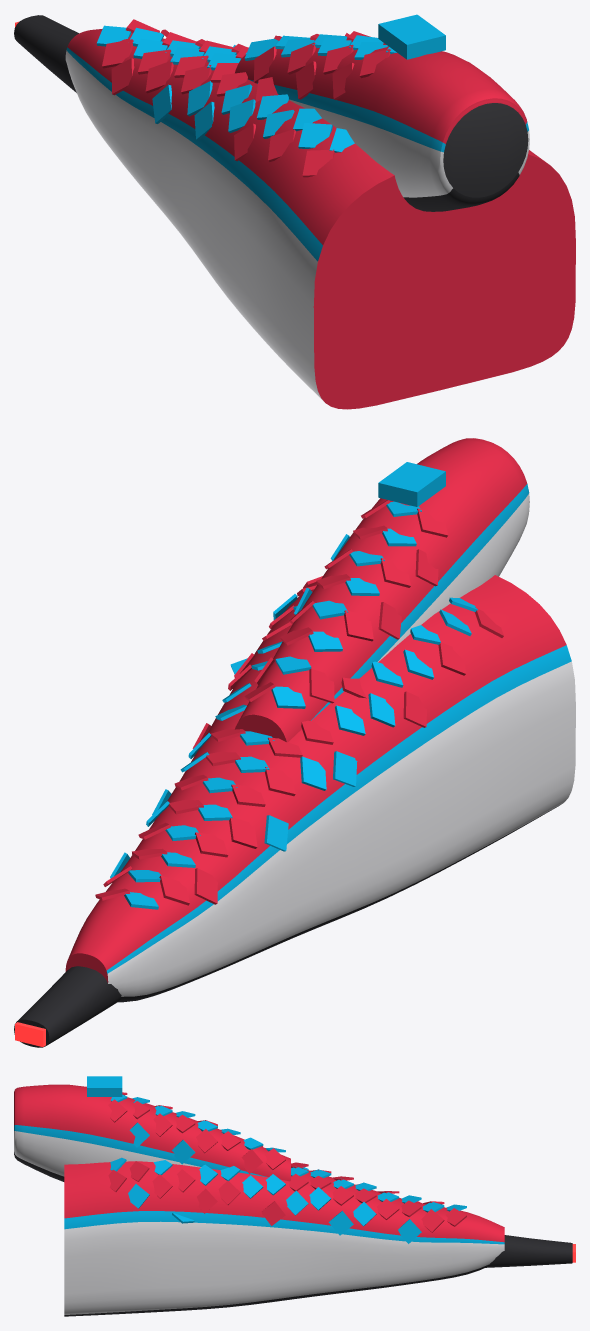
File: scales.glb
The picture shows the model from 3 angles, top to bottom: view 1: azimuth 30°, elevation 25°; view 2: azimuth 150°, elevation 25°; view 3: azimuth 270°, elevation 25°; orthographic projection. The views are drawn at different scales.
Parts seen in each view (by area): view 1: EngineCover_scales; view 2: EngineCover_scales; view 3: EngineCover_scales.
Boxes of the visible parts, bbox=[...] form: EngineCover_scales: bbox=[14, 14, 575, 409]; EngineCover_scales: bbox=[14, 438, 575, 1047]; EngineCover_scales: bbox=[14, 1076, 575, 1316].
Size of the model in its own units: 0.74 by 0.9064 by 2.23.
